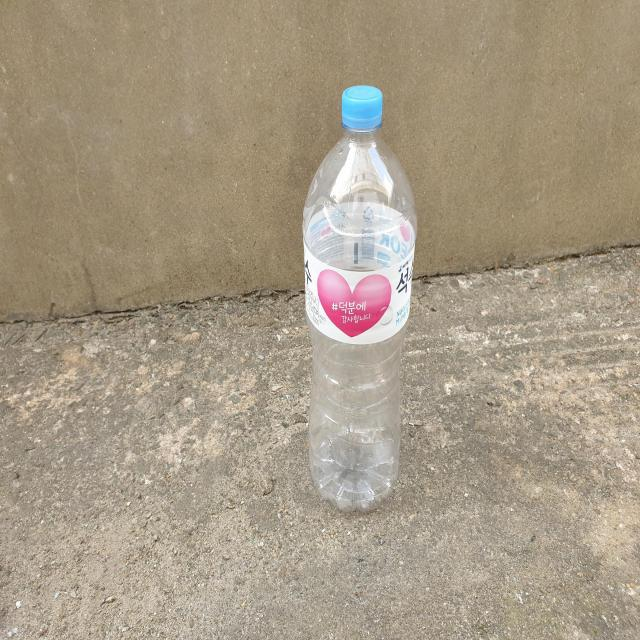plastic: (303, 84, 418, 510)
